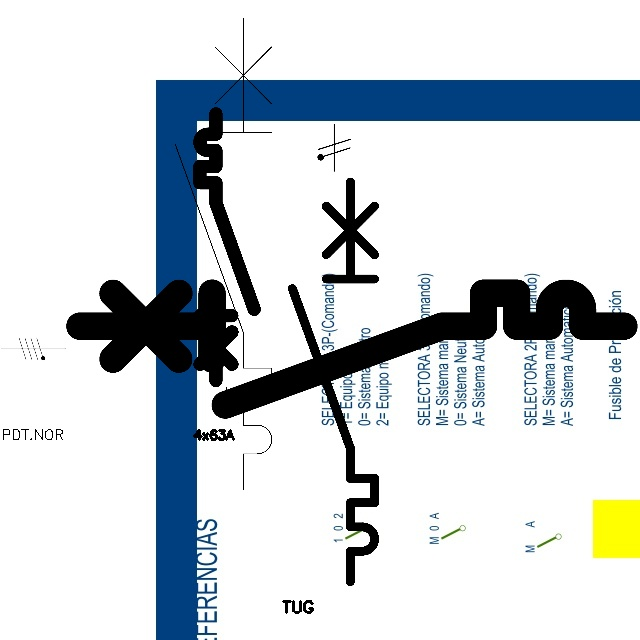interruptor_termomagnetico: (65, 279, 638, 419), (163, 6, 284, 502), (282, 171, 385, 591), (193, 107, 261, 387)
